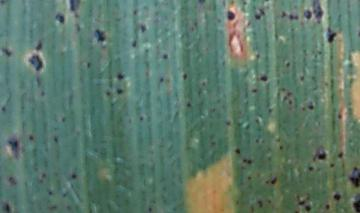tarspot: (27, 53, 46, 73), (346, 165, 360, 188), (312, 1, 325, 22), (6, 138, 21, 155), (93, 26, 107, 44), (325, 25, 337, 46), (350, 191, 360, 213), (68, 1, 82, 15), (1, 46, 14, 61), (2, 198, 15, 213), (54, 12, 67, 26), (225, 9, 237, 24), (34, 39, 45, 54), (286, 11, 301, 22), (316, 150, 329, 162), (83, 59, 95, 72), (67, 171, 81, 182), (330, 191, 344, 202), (305, 161, 316, 175), (37, 87, 48, 101), (302, 8, 312, 22), (129, 37, 139, 51), (139, 22, 149, 36), (268, 175, 280, 186), (58, 114, 69, 126), (233, 145, 243, 158), (180, 70, 190, 83), (297, 73, 307, 86), (130, 8, 143, 18), (253, 49, 261, 65), (7, 173, 16, 187), (256, 197, 265, 211), (25, 133, 36, 144), (258, 73, 269, 84), (336, 150, 347, 161), (276, 143, 287, 154), (115, 85, 125, 97), (252, 11, 262, 23), (265, 104, 273, 118), (183, 99, 193, 110), (244, 156, 254, 167), (244, 173, 254, 184), (296, 197, 308, 206), (103, 88, 112, 100), (137, 113, 146, 125), (223, 117, 232, 129), (336, 110, 344, 123), (115, 71, 125, 81), (160, 52, 170, 62), (46, 188, 56, 198), (282, 59, 293, 68), (327, 161, 336, 172), (286, 97, 295, 108), (307, 101, 315, 113), (324, 201, 332, 213), (302, 205, 314, 213), (249, 86, 259, 95), (157, 75, 167, 84), (40, 170, 48, 181), (299, 104, 307, 115), (194, 1, 211, 6), (253, 136, 261, 146), (1, 104, 8, 115), (51, 134, 59, 143), (146, 204, 154, 213)
